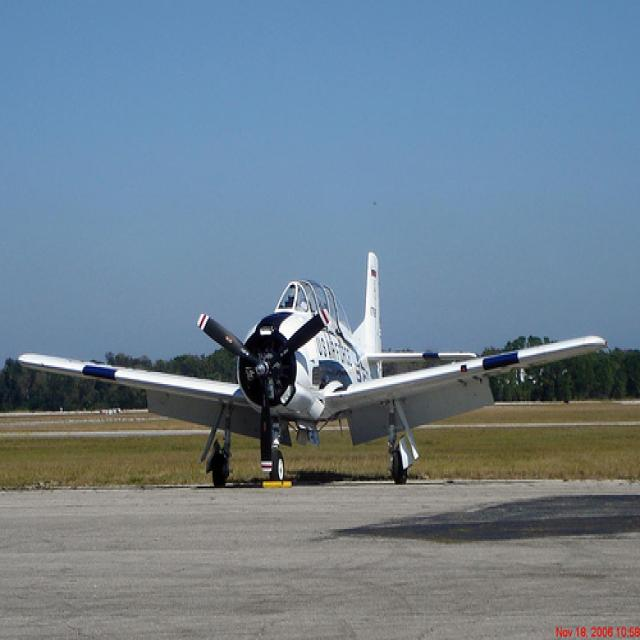aeroplane: (18, 252, 608, 491)
